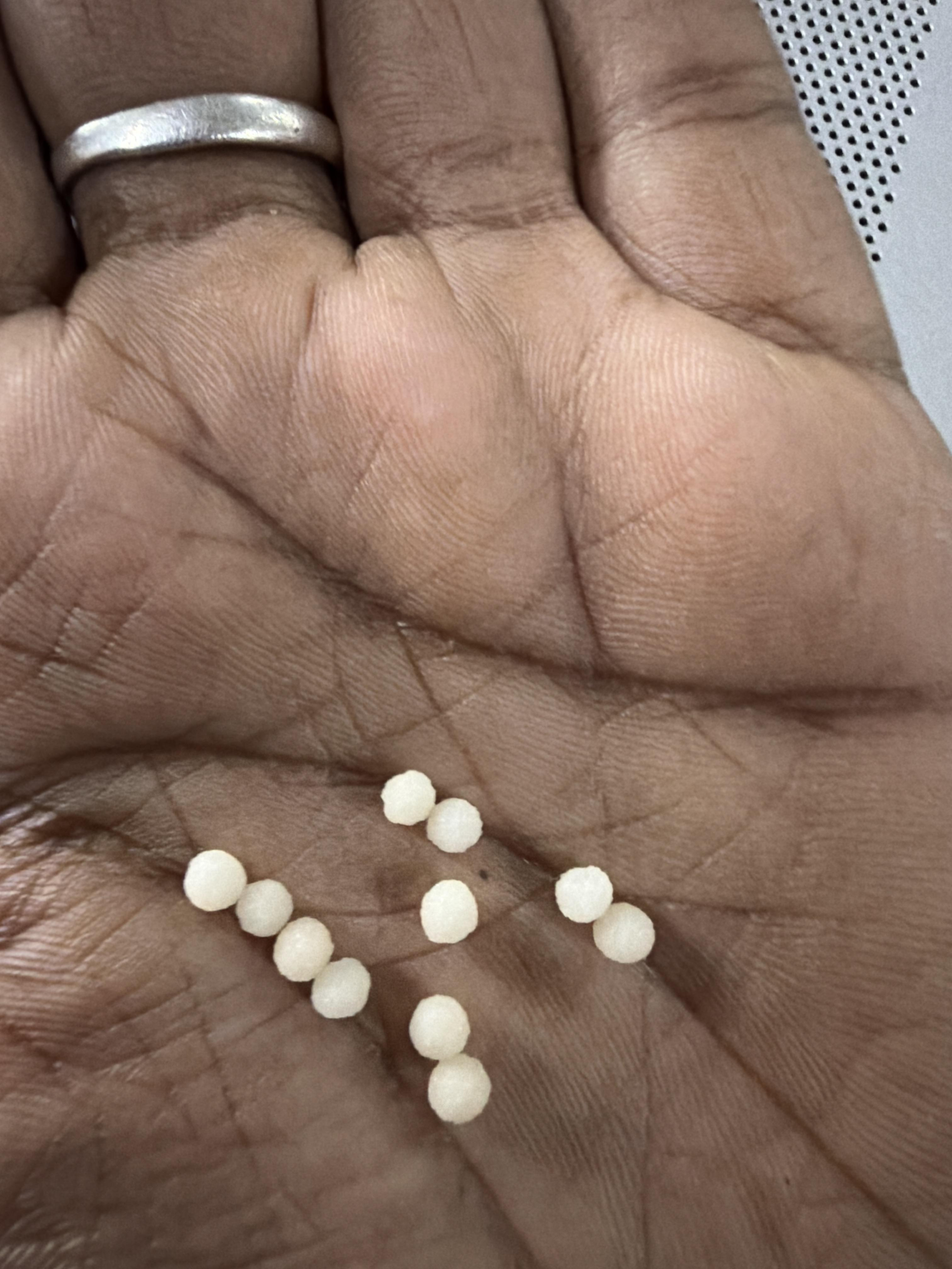pill: (428, 1053, 491, 1124), (409, 995, 470, 1061), (184, 849, 247, 911), (273, 917, 333, 981), (593, 902, 655, 963), (420, 879, 478, 944), (312, 957, 370, 1018), (236, 879, 293, 937), (555, 866, 613, 923), (426, 798, 483, 853), (381, 770, 435, 825)
